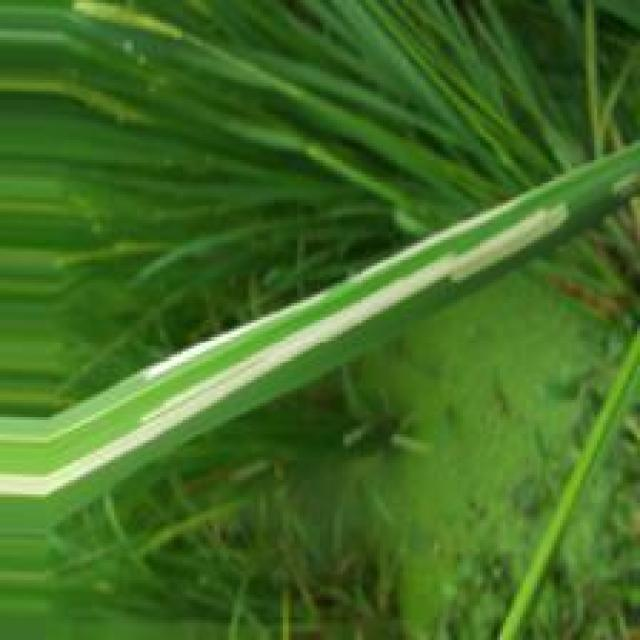Rice_Hispa: (0, 200, 571, 498), (353, 172, 576, 285), (136, 288, 330, 385)
